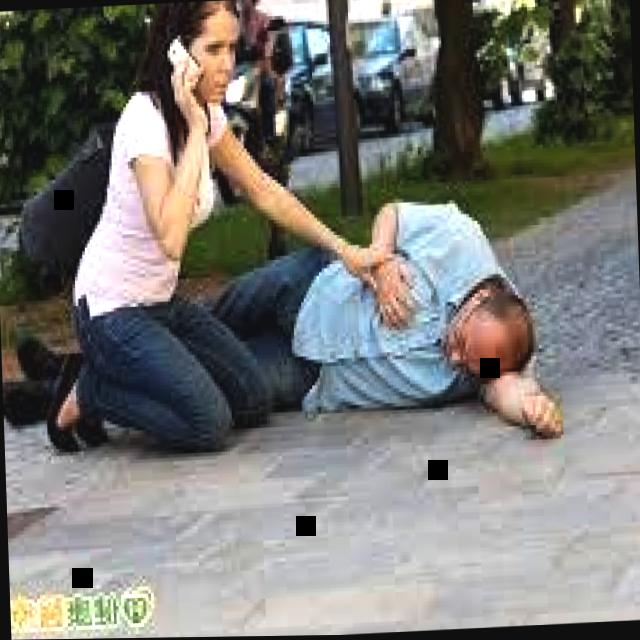Fall-Detected: (202, 178, 554, 434)
